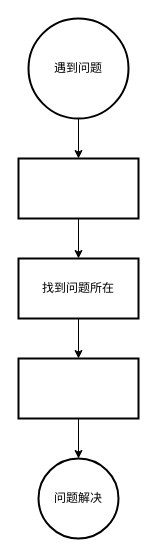
This 156x556 diagram has some shape labels left out. Each missing label, with the centre of its shape:
使用知识和工具分析: (x=78, y=188)
提出解决方案: (x=78, y=388)
